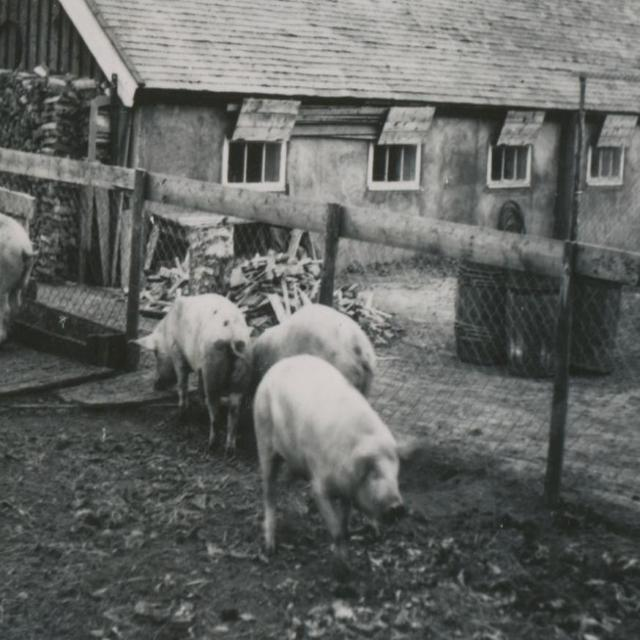pig: (254, 354, 402, 555), (140, 294, 250, 453), (252, 304, 376, 395), (0, 212, 36, 342)
